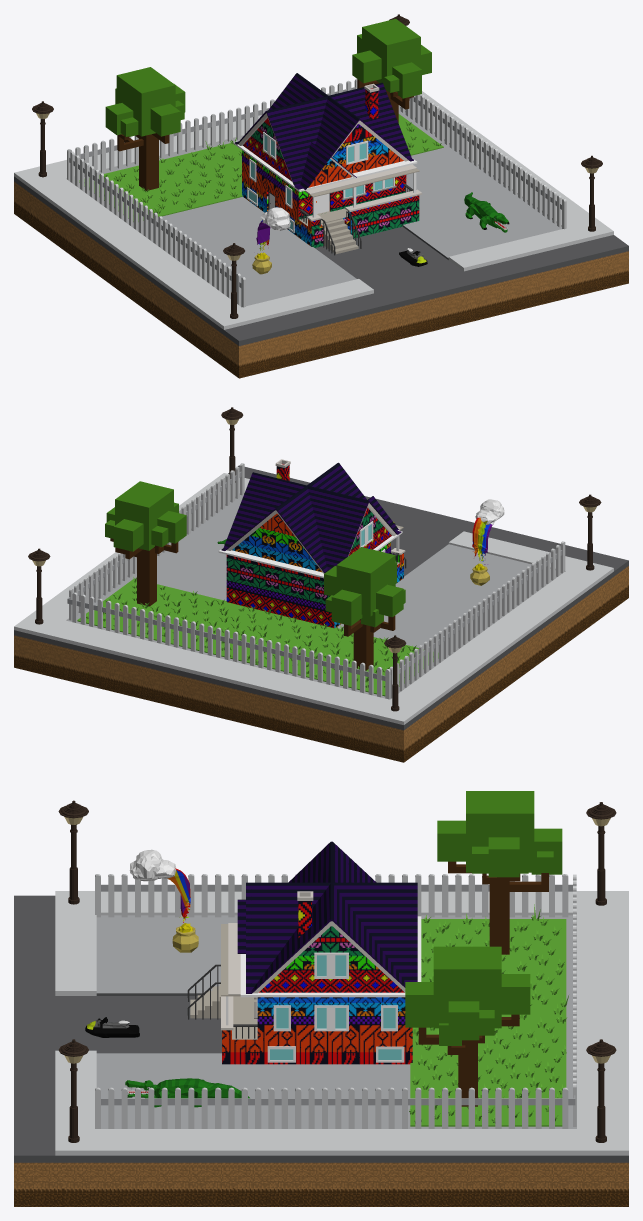
3 views of the same model, one above another, from view 1: azimuth 30°, elevation 25°; view 2: azimuth 150°, elevation 25°; view 3: azimuth 270°, elevation 25° (orthographic). The views are drawn at different scales.
Parts seen in each view (by area): view 1: Cube.004, Cube.966, OBJRANDOM_RAINBOW, ANIMAL_COCODRILO; view 2: Cube.004, Cube.966, OBJRANDOM_RAINBOW; view 3: Cube.004, Cube.966, OBJRANDOM_RAINBOW, ANIMAL_COCODRILO, VEHICLES_WATERBIKE.
Boxes of the visible parts, <box> form: Cube.004: <box>14,14,628,378</box>; Cube.966: <box>233,73,422,255</box>; OBJRANDOM_RAINBOW: <box>252,207,290,274</box>; ANIMAL_COCODRILO: <box>464,192,509,232</box>; Cube.004: <box>14,407,628,762</box>; Cube.966: <box>218,459,406,627</box>; OBJRANDOM_RAINBOW: <box>470,499,504,585</box>; Cube.004: <box>14,791,628,1206</box>; Cube.966: <box>187,841,421,1064</box>; OBJRANDOM_RAINBOW: <box>129,849,198,952</box>; ANIMAL_COCODRILO: <box>125,1078,249,1107</box>; VEHICLES_WATERBIKE: <box>85,1017,139,1037</box>.
Bounding box in the file's own units: 4000 × 1702 × 4000.
Materials: 38 (7 with a texture image).
